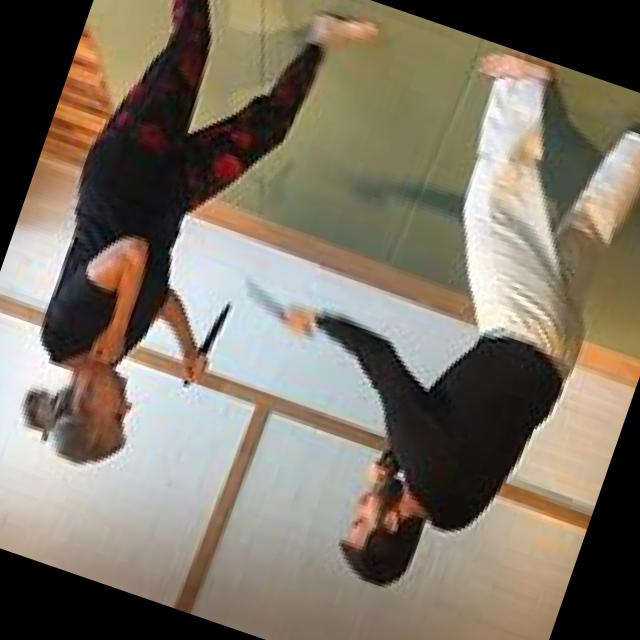knife: (154, 279, 252, 404)
